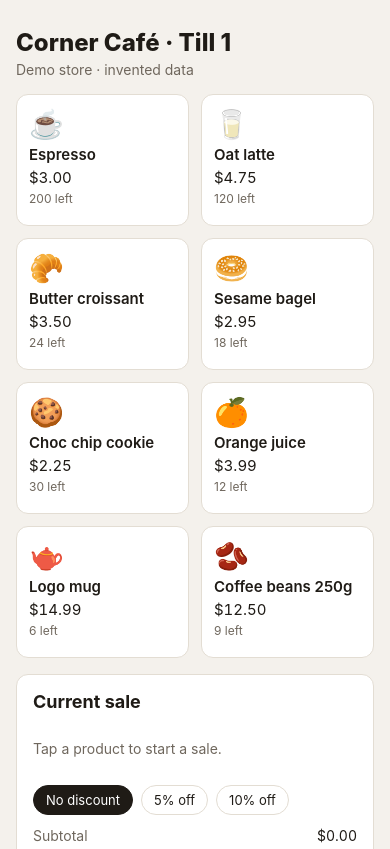
Test case: <PosScreen> › charges, clears the cart and syncs the sale
The width and height of the screenshot is (390, 849).
Click the button with aria-label "Add Oat latte". click: {"x": 288, "y": 160}
box: top-left (201, 94), bottom-right (374, 226)
(page scrolled)
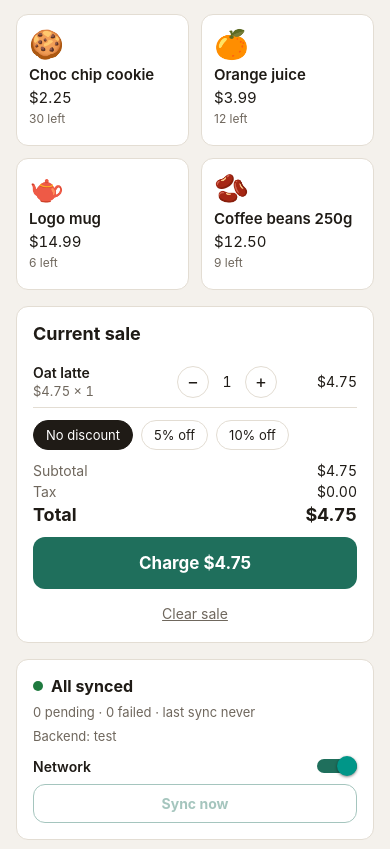
Click the button "Charge $4.75". click: {"x": 195, "y": 563}
box: top-left (33, 537), bottom-right (357, 589)
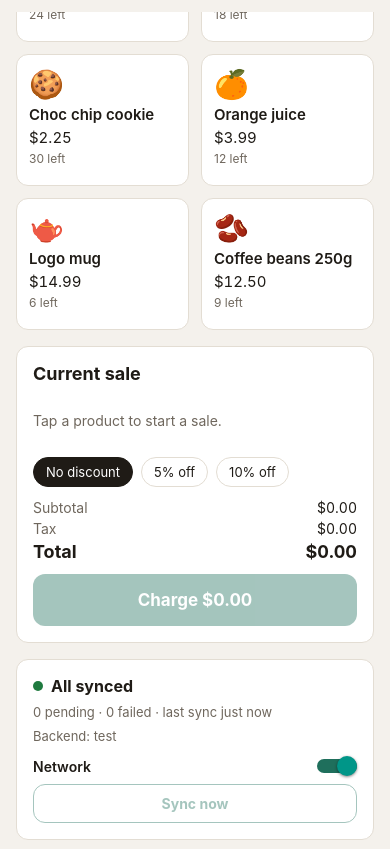
Expected: the heading with test id "sync-status" reads "All synced", top-left (51, 676), bottom-right (133, 696)
Expected: the text "Tap a product to start a sale." is shown, top-left (33, 412), bottom-right (222, 429)
